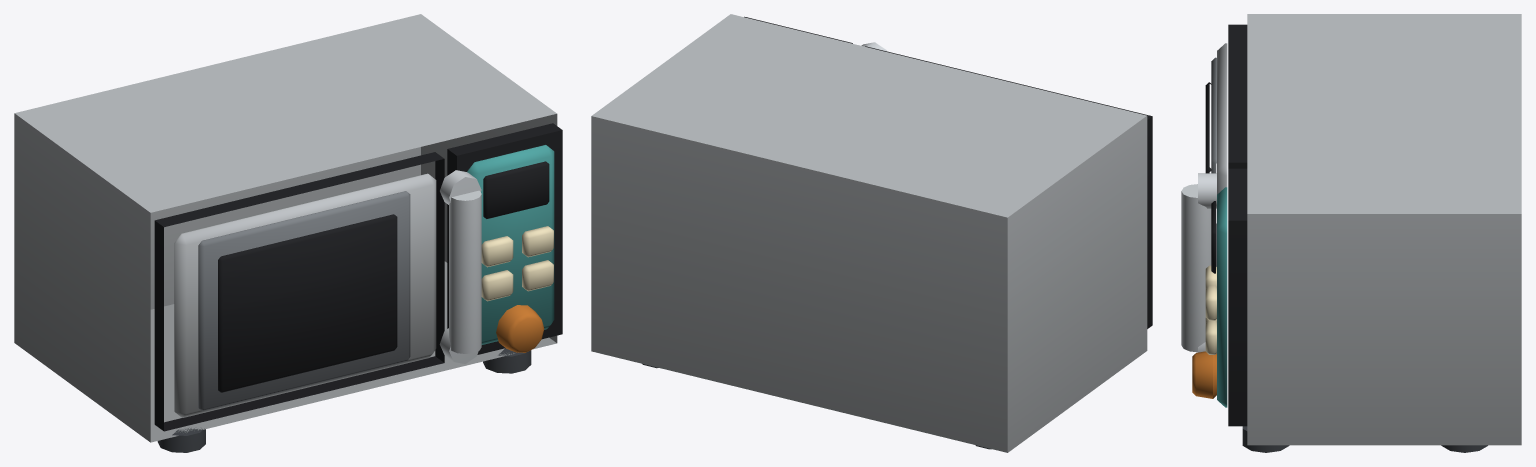
File: Microwave_Counter_01.glb
3 renders of one model, left to right at view 1: azimuth 30°, elevation 25°; view 2: azimuth 150°, elevation 25°; view 3: azimuth 270°, elevation 25°, orthographic. The views are drawn at different scales.
Visible parts, largest first — view 1: SM_Microwave_Counter_01; view 2: SM_Microwave_Counter_01; view 3: SM_Microwave_Counter_01.
Part boxes in pixels (bbox=[...]): SM_Microwave_Counter_01: bbox=[14, 14, 562, 452]; SM_Microwave_Counter_01: bbox=[591, 14, 1152, 452]; SM_Microwave_Counter_01: bbox=[1181, 14, 1521, 452].
Bounding box in the file's own units: 0.5 × 0.29 × 0.3595.
Materials: 1 (1 with a texture image).
